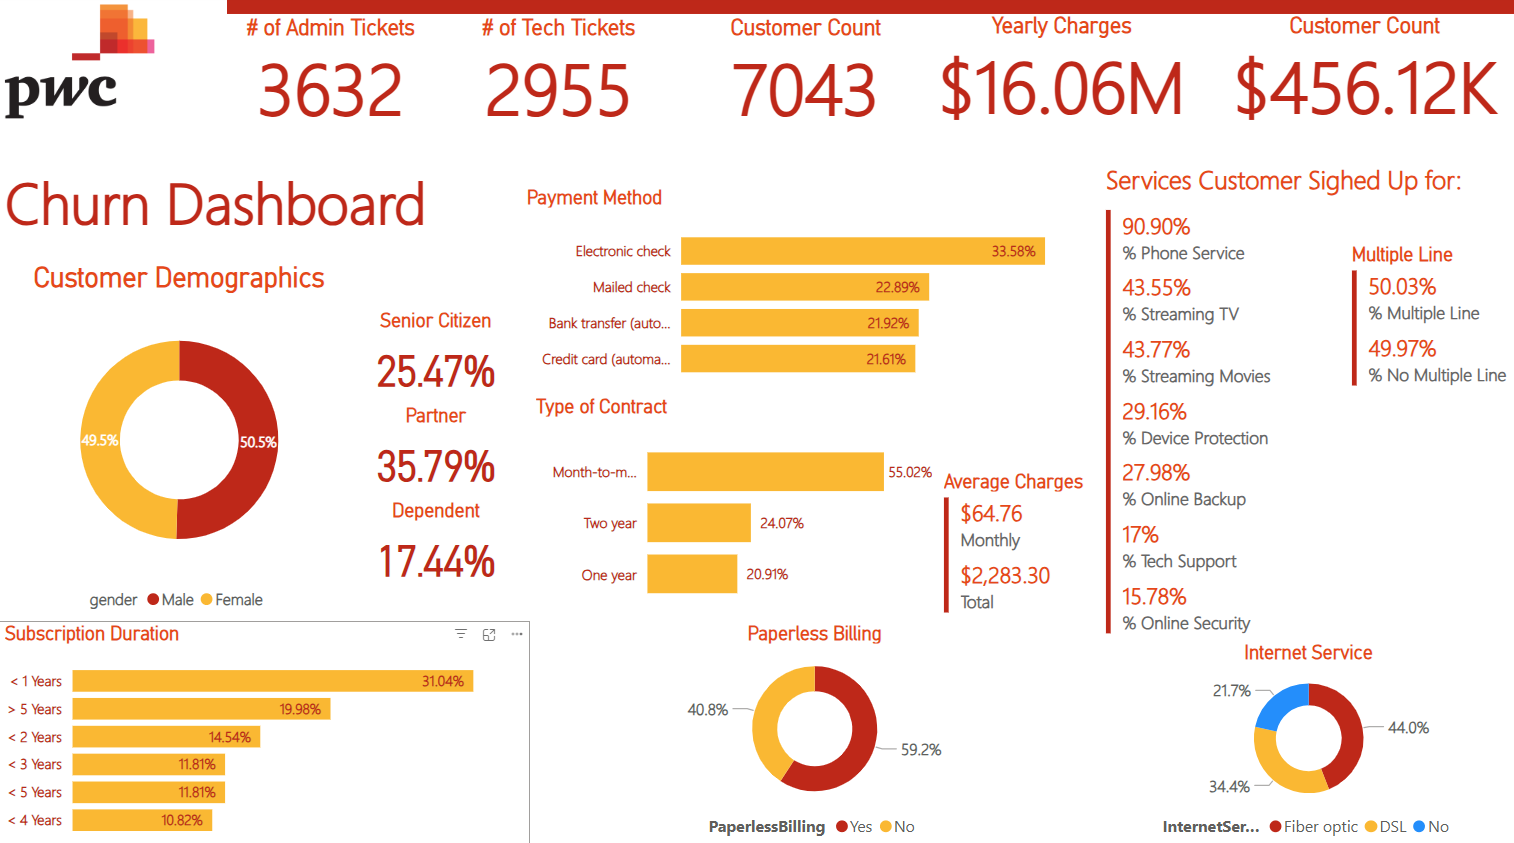

This screenshot's page, from the dashboard's own definition file:
{"tool":"powerbi","page":{"name":"Churn Analysis","canvas":[1280,720],"ordinal":1},"visuals":[{"type":"card","title":"Senior Citizen","fields":{"Values":["01 Churn-Dataset.Senior Citizen in %"]},"box":[304,264,128,80],"z":0,"group":"g1"},{"type":"card","title":"Customer Count","fields":{"Values":["CountNonNull(01 Churn-Dataset.customerID)"]},"box":[584,16,192,96],"z":0},{"type":"card","title":"# of Tech Tickets","fields":{"Values":["Sum(01 Churn-Dataset.numTechTickets)"]},"box":[376,16,192,96],"z":1000},{"type":"card","title":"Partner","fields":{"Values":["01 Churn-Dataset.Partner in %"]},"box":[304,344,128,80],"z":1000,"group":"g1"},{"type":"card","title":"# of Admin Tickets","fields":{"Values":["Sum(01 Churn-Dataset.numAdminTickets)"]},"box":[184,16,192,96],"z":2000},{"type":"card","title":"Dependent","fields":{"Values":["01 Churn-Dataset.Dependent in %"]},"box":[304,424,128,80],"z":2000,"group":"g1"},{"type":"card","title":"Yearly Charges","fields":{"Values":["Sum(01 Churn-Dataset.TotalCharges)"]},"box":[767.7,14.5,256,96],"z":3000},{"type":"card","title":"Customer Count","fields":{"Values":["Sum(01 Churn-Dataset.MonthlyCharges)"]},"box":[1023.7,14.5,256,96],"z":4000},{"type":"donutChart","title":"Customer Demographics","fields":{"Category":["01 Churn-Dataset.gender"],"Y":["CountNonNull(01 Churn-Dataset.gender)"]},"box":[0,224,304,304],"z":5000},{"type":"clusteredBarChart","title":"Subscription Duration","fields":{"Category":["01 Churn-Dataset.Loyalty"],"Y":["CountNonNull(01 Churn-Dataset.Loyalty)"]},"box":[0,528,448,192],"z":6000},{"type":"multiRowCard","fields":{"Values":["01 Churn-Dataset.% Phone Service","01 Churn-Dataset.% Streaming TV","01 Churn-Dataset.% Streaming Movies","01 Churn-Dataset.% Device Protection","01 Churn-Dataset.% Online Backup","01 Churn-Dataset.% Tech Support","01 Churn-Dataset.% Online Security"]},"box":[928,176,192,368],"z":7000},{"type":"clusteredBarChart","title":"Payment Method","fields":{"Category":["01 Churn-Dataset.PaymentMethod"],"Y":["CountNonNull(01 Churn-Dataset.PaymentMethod)"]},"box":[440,160,488,176],"z":8000},{"type":"donutChart","title":"Paperless Billing","fields":{"Category":["01 Churn-Dataset.PaperlessBilling"],"Y":["CountNonNull(01 Churn-Dataset.PaperlessBilling)"]},"box":[448,528,480,192],"z":9000},{"type":"multiRowCard","title":"Average Charges","fields":{"Values":["Avg(01 Churn-Dataset.MonthlyCharges)","Avg(01 Churn-Dataset.TotalCharges)"]},"box":[792,400,136,128],"z":10000},{"type":"group","id":"g1","title":"Group 1","box":[304,264,128,240],"z":11000},{"type":"clusteredBarChart","title":"Type of Contract","fields":{"Category":["01 Churn-Dataset.Contract"],"Y":["CountNonNull(01 Churn-Dataset.Contract)"]},"box":[448,336,344,192],"z":12000},{"type":"donutChart","title":"Internet Service","fields":{"Category":["01 Churn-Dataset.InternetService"],"Y":["CountNonNull(01 Churn-Dataset.InternetService)"]},"box":[928,544,352,176],"z":13000},{"type":"multiRowCard","title":"Multiple Line","fields":{"Values":["01 Churn-Dataset.% Multiple Line","01 Churn-Dataset.% No Multiple Line"]},"box":[1136,208,144,128],"z":14000},{"type":"image","box":[0,0,136,112],"z":15000},{"type":"textbox","box":[0,136,424,80],"z":16000},{"type":"shape","box":[192,0,1088,16],"z":17000},{"type":"textbox","box":[928,136,352,40],"z":18000}]}

Visuals, with their boxes in screenshot pixels (x1, y1, x2, y2), scaled from the page's 1280x720 canvas onto the 1514x843 screenshot:
"Senior Citizen" card: [left=360, top=309, right=511, bottom=403]
"Customer Count" card: [left=691, top=19, right=918, bottom=131]
"# of Tech Tickets" card: [left=445, top=19, right=672, bottom=131]
"Partner" card: [left=360, top=403, right=511, bottom=496]
"# of Admin Tickets" card: [left=218, top=19, right=445, bottom=131]
"Dependent" card: [left=360, top=496, right=511, bottom=590]
"Yearly Charges" card: [left=908, top=17, right=1211, bottom=129]
"Customer Count" card: [left=1211, top=17, right=1513, bottom=129]
"Customer Demographics" donutChart: [left=0, top=262, right=360, bottom=618]
"Subscription Duration" clusteredBarChart: [left=0, top=618, right=530, bottom=842]
multiRowCard - 01 Churn-Dataset.% Phone Service x 01 Churn-Dataset.% Streaming TV: [left=1098, top=206, right=1325, bottom=637]
"Payment Method" clusteredBarChart: [left=520, top=187, right=1098, bottom=393]
"Paperless Billing" donutChart: [left=530, top=618, right=1098, bottom=842]
"Average Charges" multiRowCard: [left=937, top=468, right=1098, bottom=618]
"Group 1" group: [left=360, top=309, right=511, bottom=590]
"Type of Contract" clusteredBarChart: [left=530, top=393, right=937, bottom=618]
"Internet Service" donutChart: [left=1098, top=637, right=1513, bottom=842]
"Multiple Line" multiRowCard: [left=1344, top=244, right=1513, bottom=393]
image: [left=0, top=0, right=161, bottom=131]
textbox: [left=0, top=159, right=502, bottom=253]
shape: [left=227, top=0, right=1513, bottom=19]
textbox: [left=1098, top=159, right=1513, bottom=206]
